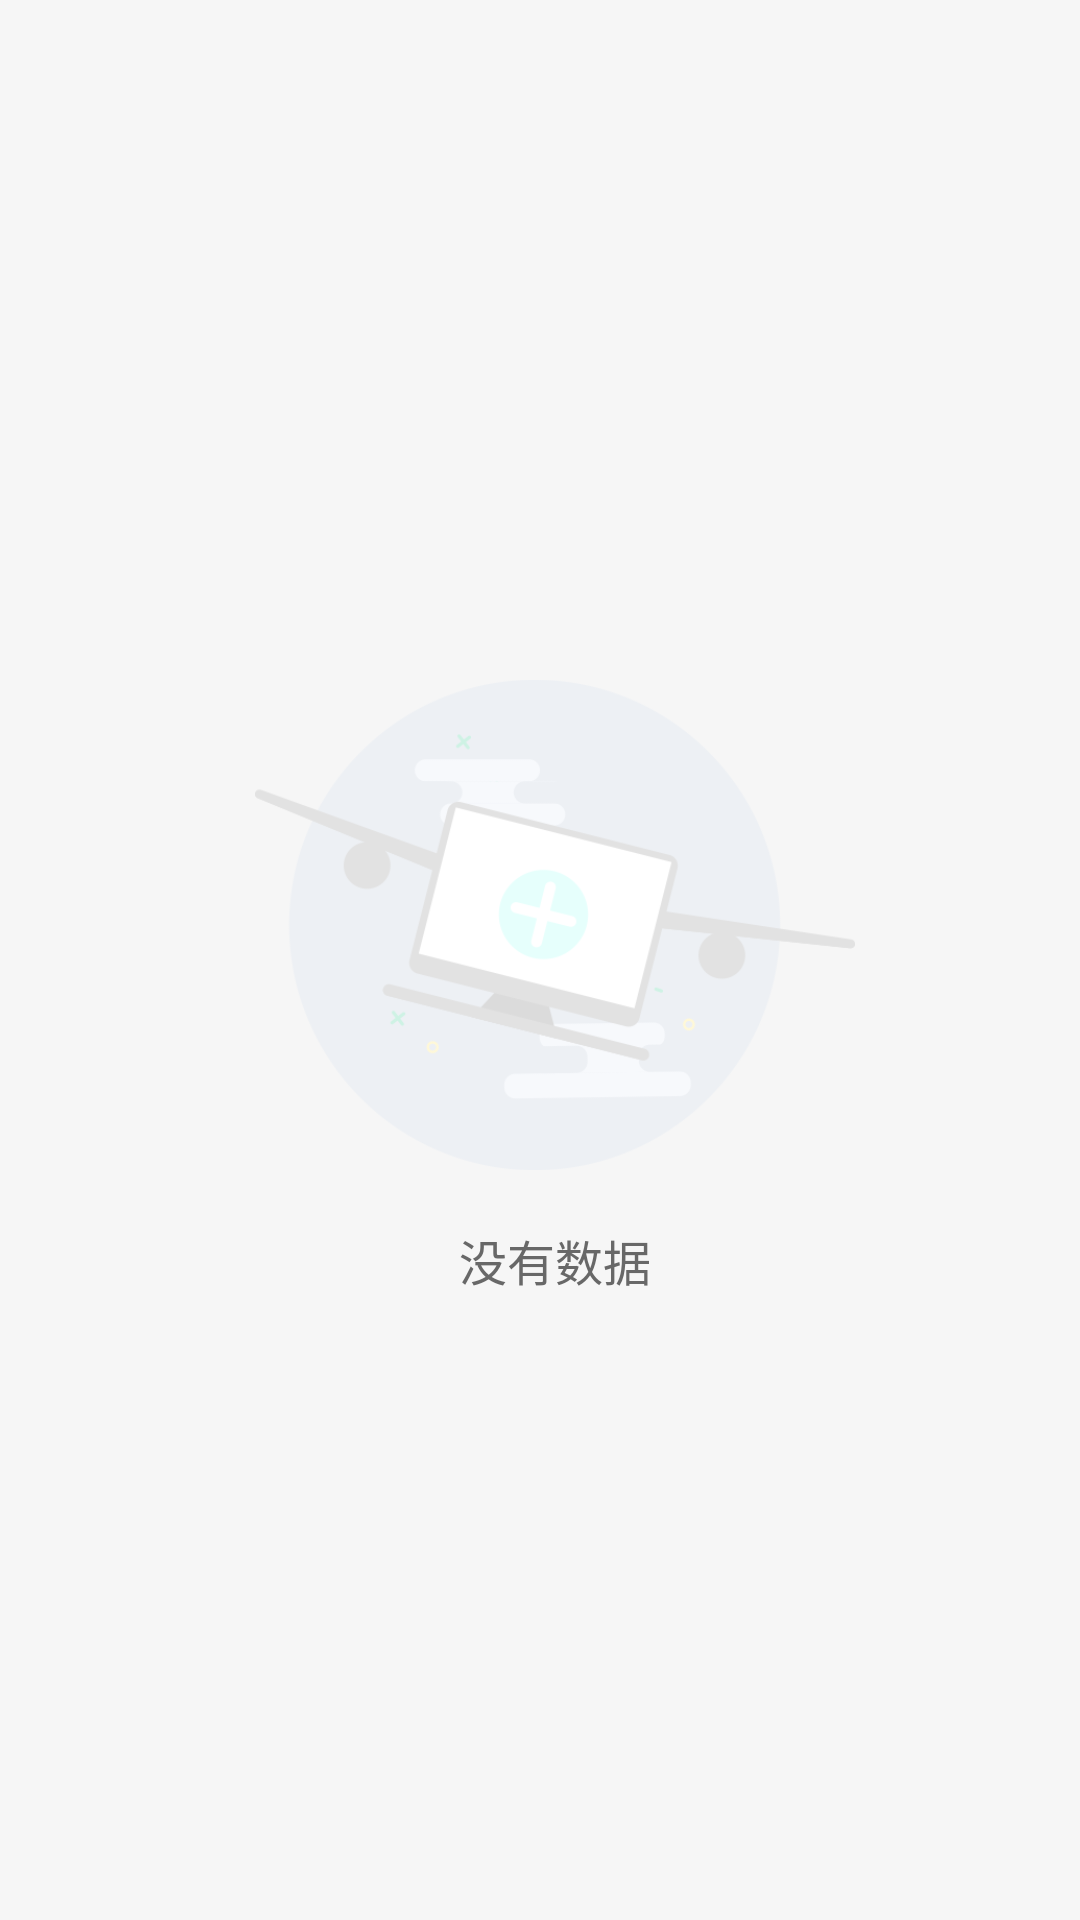

Screen size 1080 x 1920. Icon name, then its box in pixels as {"x1": x1, "y1": y1, "x2": x2, "y2": y2}:
empty: {"x1": 391, "y1": 735, "x2": 694, "y2": 1053}
